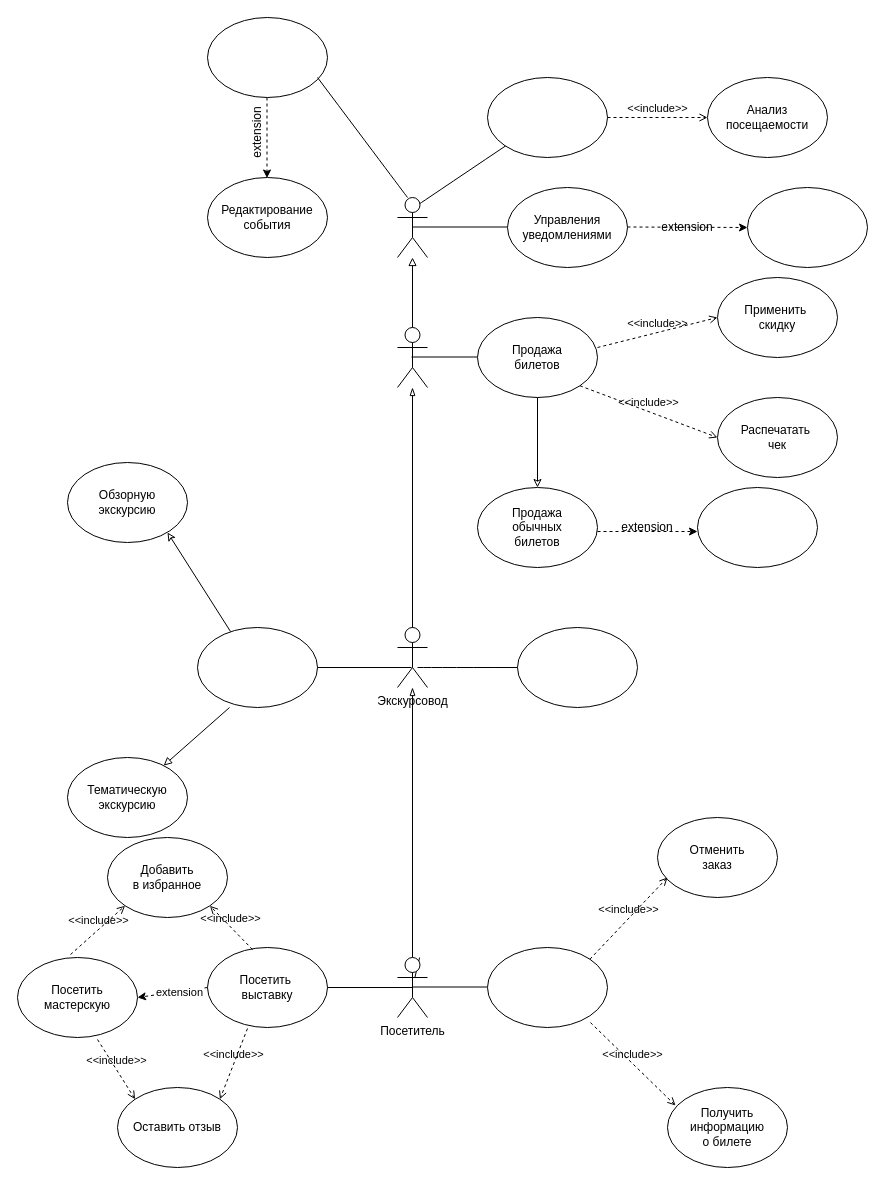
The diagram is 885 pixels wide and 1185 high, and some of its shapes have lost their labels. The centre of each missing label's shape, as x and y in pixels:
"Администратор" goes at point (412, 227).
"Генерировать отчет" goes at point (547, 117).
"Заказать билеты" goes at point (547, 987).
"Кассир" goes at point (412, 357).
"Отправить уведомление" goes at point (807, 227).
"Получить информацию о билетах" goes at point (577, 667).
"Провести экскурсию" goes at point (257, 667).
"Продажа ВИП-билетов" goes at point (757, 527).
"Создание события" goes at point (267, 57).
